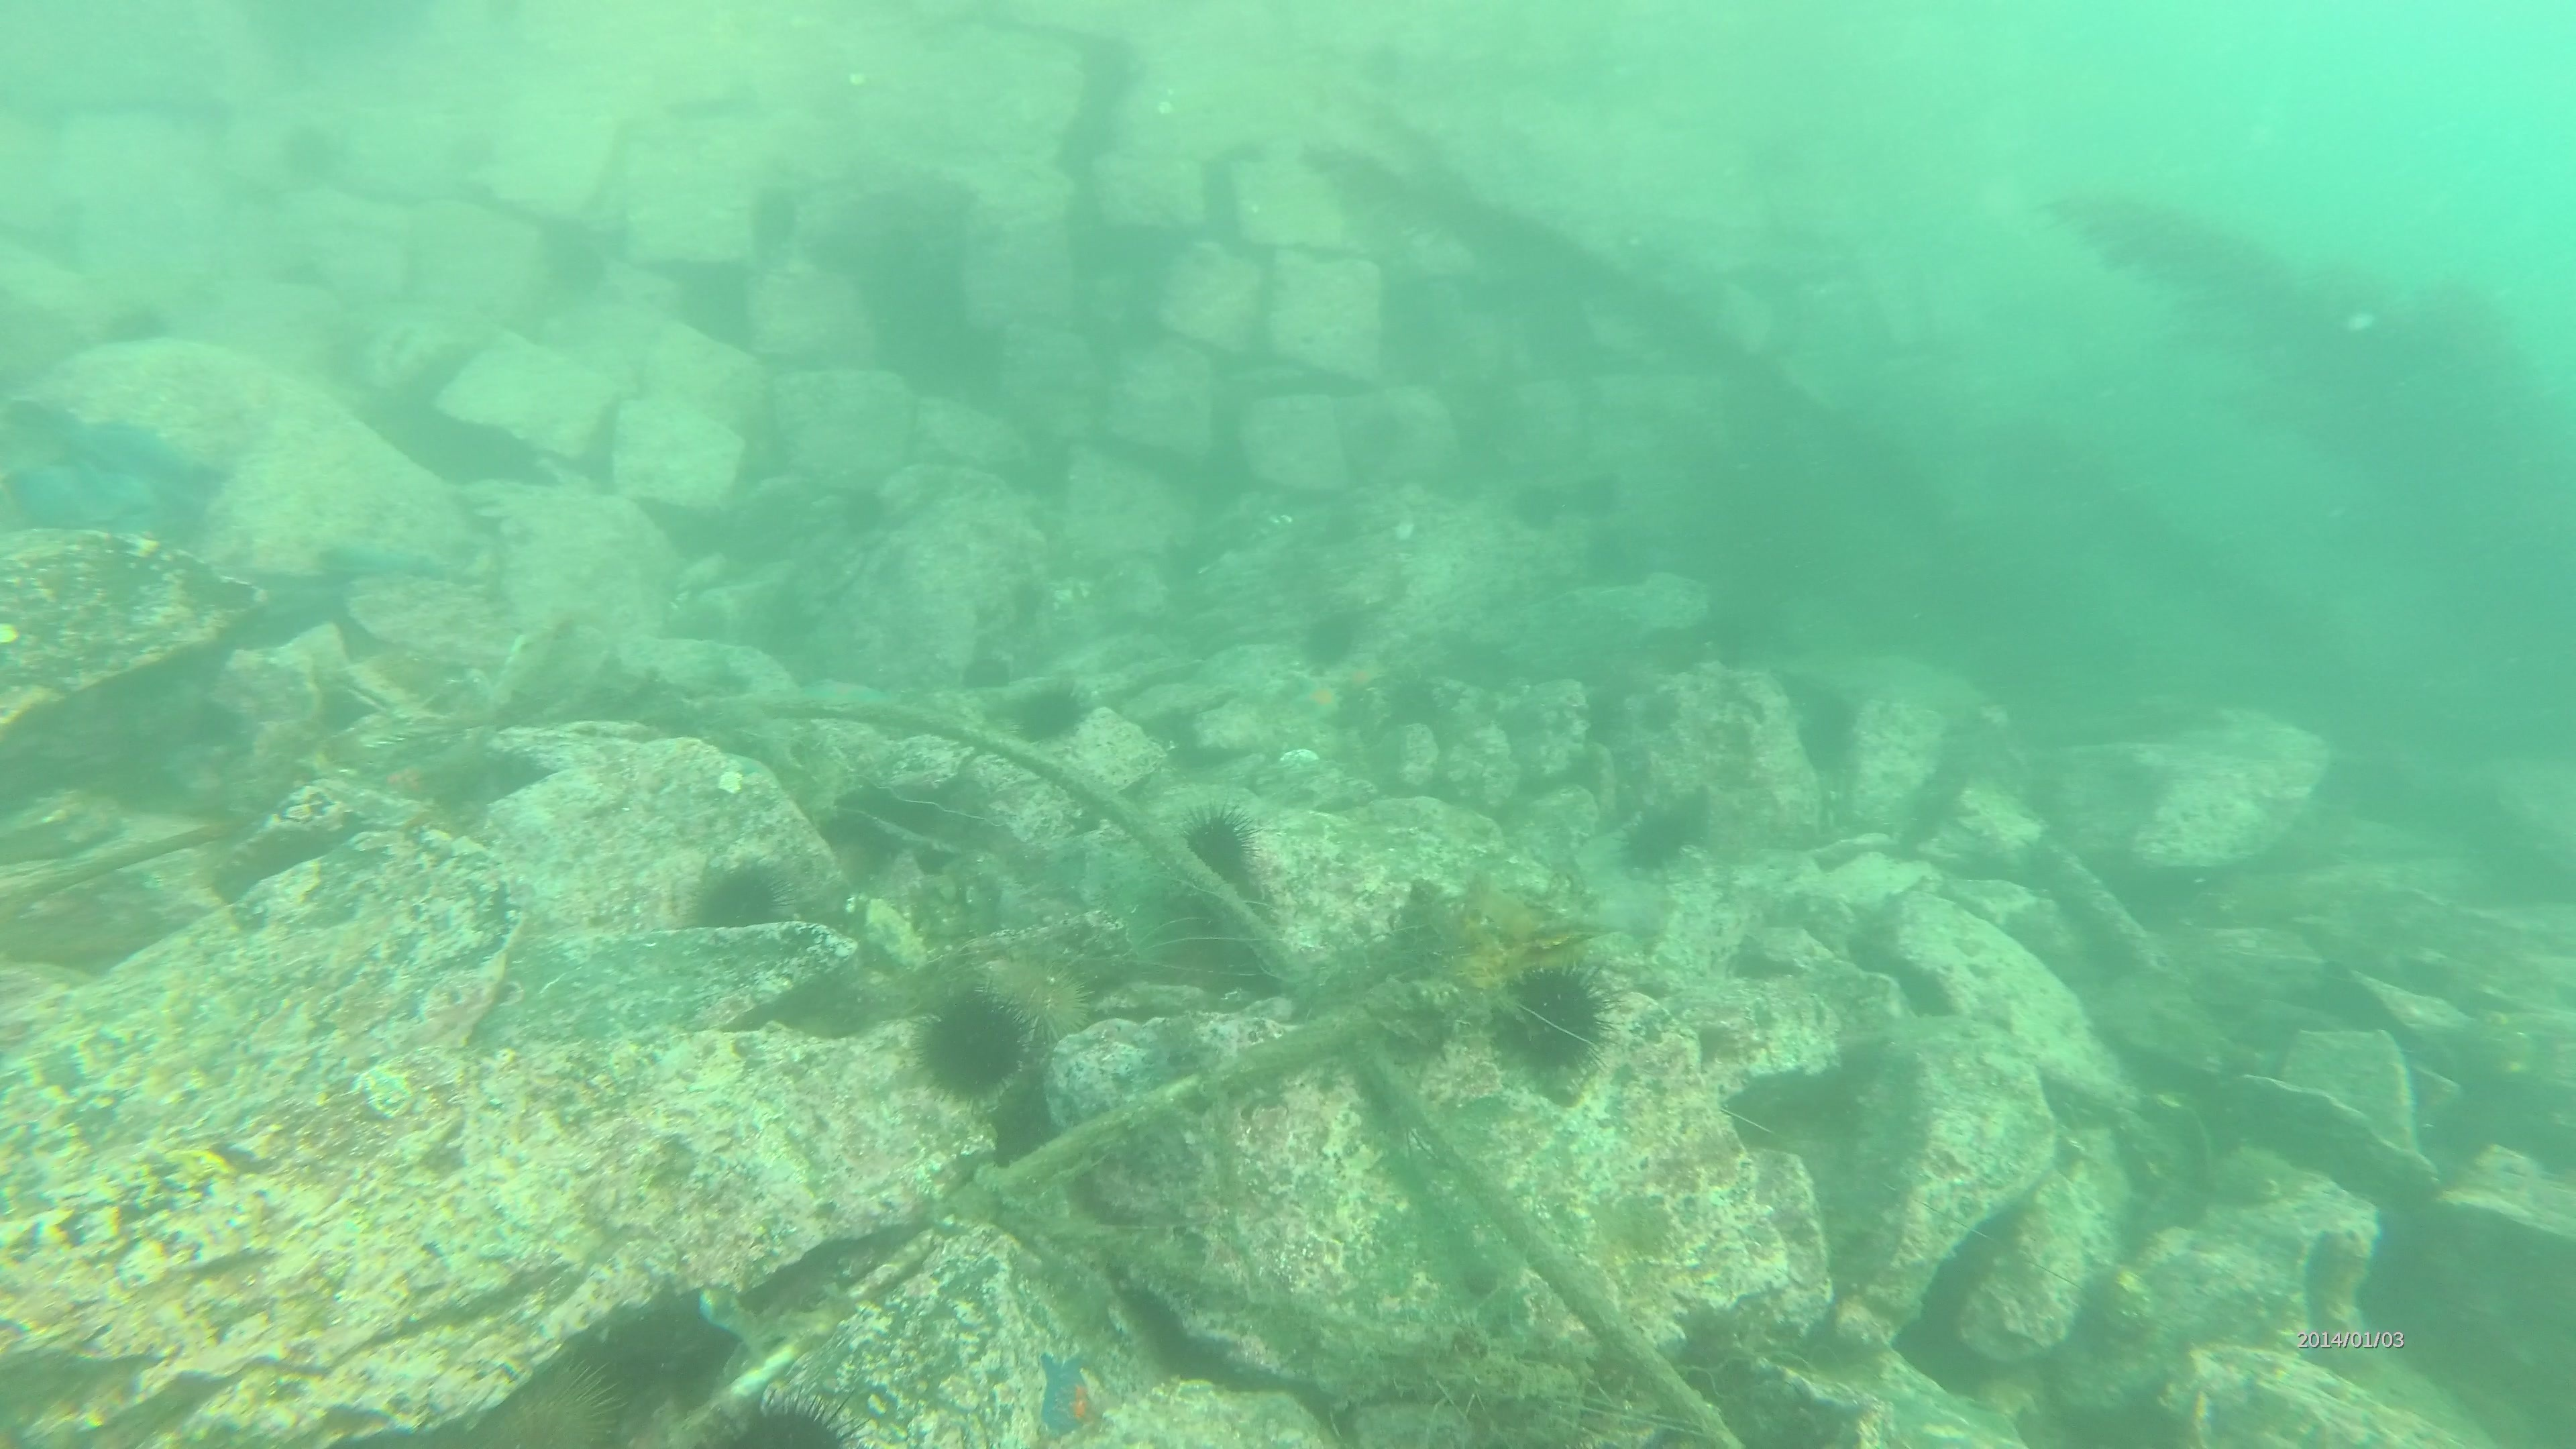echinus: (1495, 952, 1621, 1079), (469, 1357, 628, 1449), (911, 985, 1023, 1102), (676, 1387, 867, 1449), (984, 947, 1088, 1053), (1166, 801, 1258, 888), (276, 115, 364, 191), (97, 283, 186, 359), (1283, 598, 1371, 674), (665, 839, 754, 913), (1005, 679, 1093, 747), (1506, 479, 1566, 536), (1580, 469, 1640, 524), (1633, 692, 1693, 747), (1628, 605, 1688, 660), (1353, 396, 1414, 451), (1307, 504, 1368, 559), (1382, 678, 1442, 732), (1637, 810, 1697, 865)
starfish: (1033, 1346, 1104, 1435), (1292, 672, 1348, 720)
